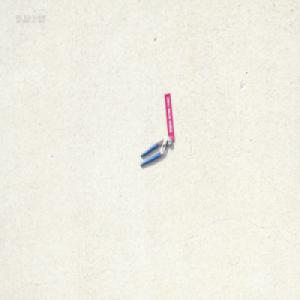Label: (164, 91, 175, 140)
Pliers: (139, 135, 172, 166)
